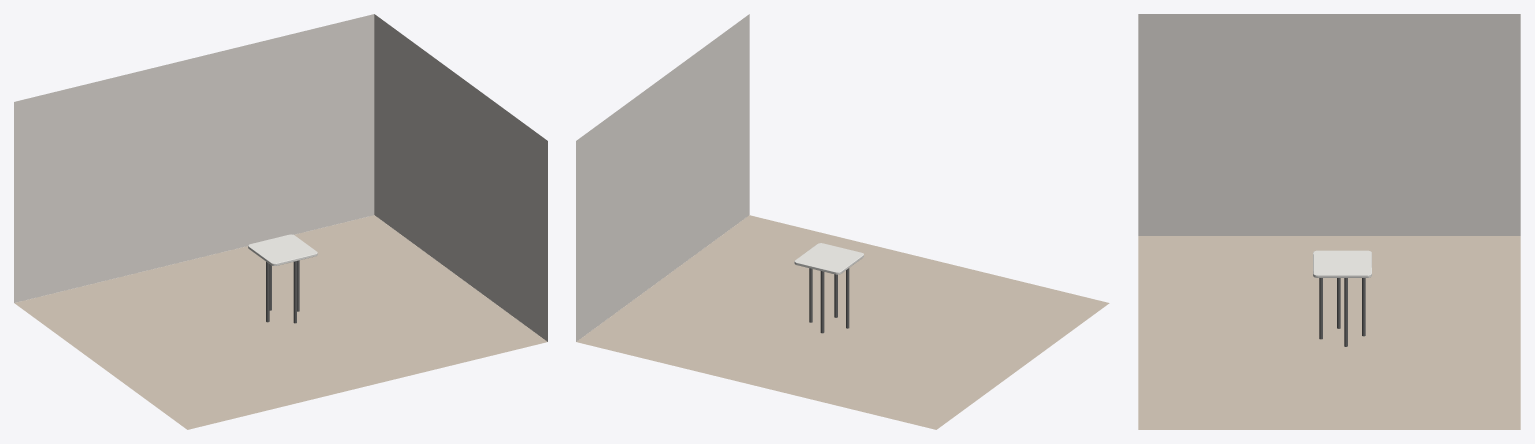
Rendered from mesa-barra.glb.
3 renders of one model, left to right at view 1: azimuth 30°, elevation 25°; view 2: azimuth 150°, elevation 25°; view 3: azimuth 270°, elevation 25°, orthographic. The views are drawn at different scales.
Parts seen in each view (by area): view 1: sala, decoracion; view 2: sala, decoracion; view 3: sala, decoracion.
Part boxes in pixels (x1,y1,x2,y2): sala: (14,14,547,429); decoracion: (248,234,317,323); sala: (576,14,1109,429); decoracion: (794,243,863,333); sala: (1138,14,1520,429); decoracion: (1313,250,1371,346).
Bounding box in the file's own units: 6 × 3.2 × 5.
